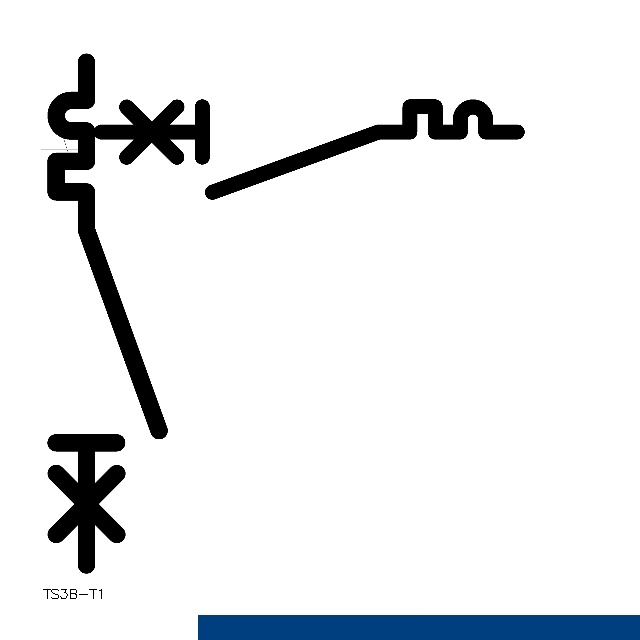interruptor_termomagnetico: (43, 49, 172, 578), (90, 96, 528, 203)
